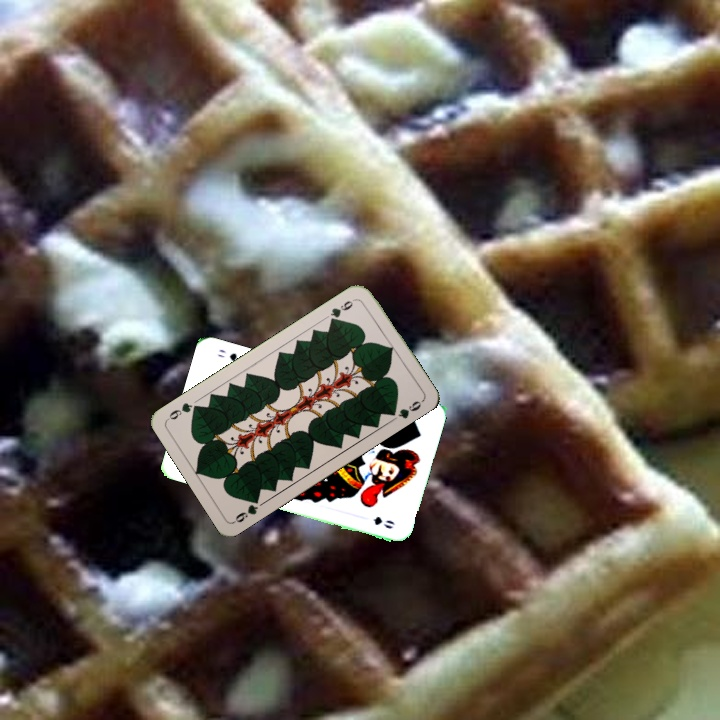G9: (230, 493, 262, 526), (326, 294, 359, 325)
